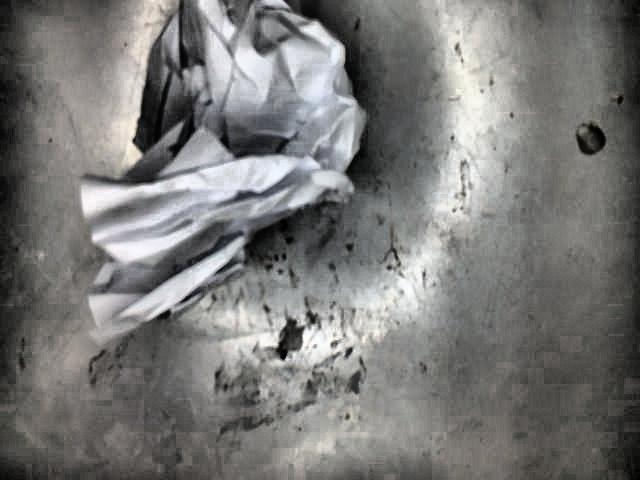Paper: (78, 0, 373, 341)
